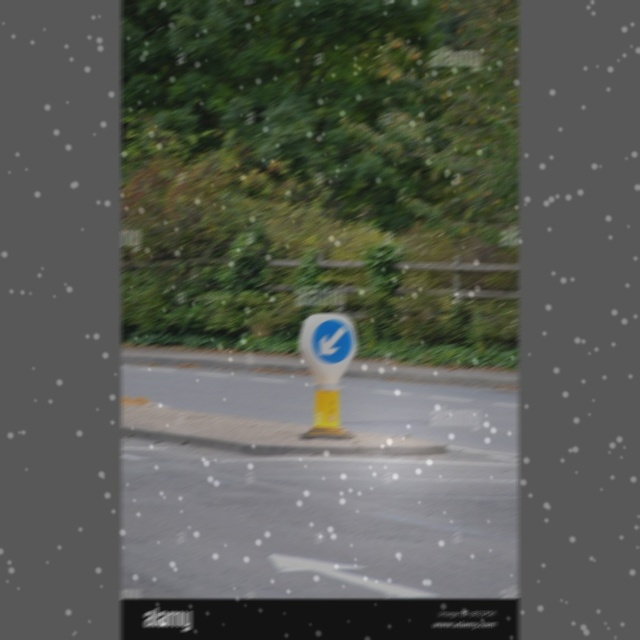Compulsory_Keep_Left: (304, 312, 362, 376)
